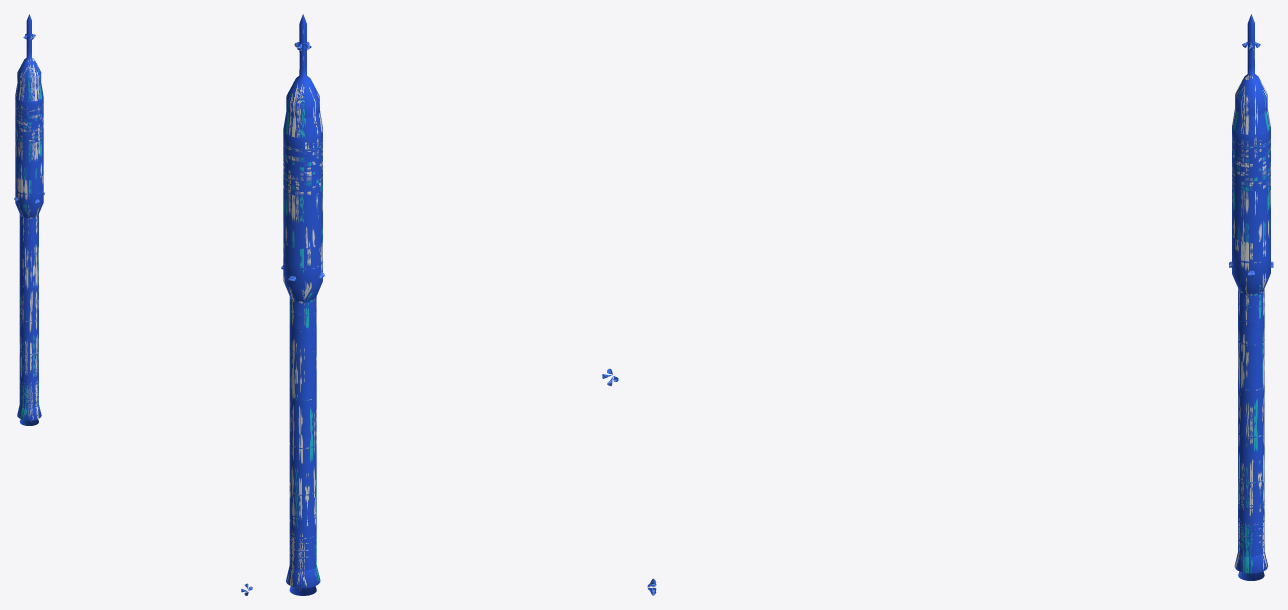
File: ares-1-a.glb
3 views of the same model, side by side, from view 1: azimuth 30°, elevation 25°; view 2: azimuth 150°, elevation 25°; view 3: azimuth 270°, elevation 25° (orthographic). The views are drawn at different scales.
Parts seen in each view (by area): view 1: A; view 2: A; view 3: A.
Boxes of the visible parts, x1=… form: A: x1=14, y1=14, x2=252, y2=595; A: x1=281, y1=14, x2=618, y2=595; A: x1=647, y1=14, x2=1273, y2=595.
Size of the model in its own units: 0.1395 by 2 by 1.95.
20 materials, 20 textured.
